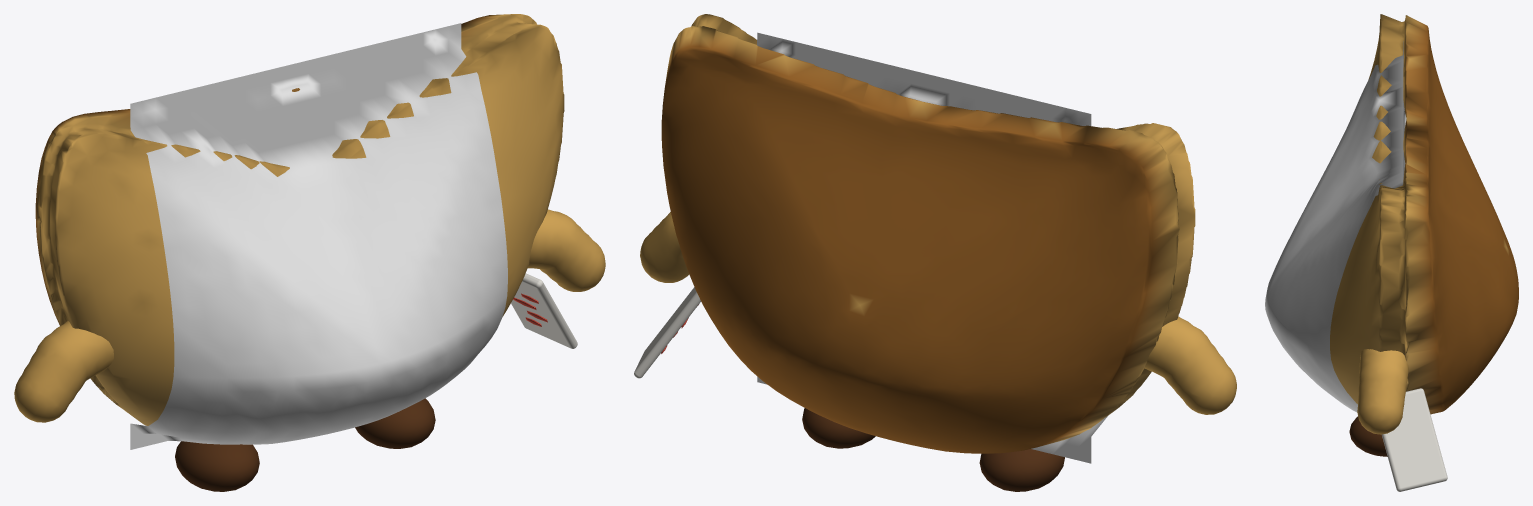
The model's file is folk2_fortune_lod1.glb.
The picture shows the model from 3 angles, left to right: view 1: azimuth 30°, elevation 25°; view 2: azimuth 150°, elevation 25°; view 3: azimuth 270°, elevation 25°; orthographic projection. The views are drawn at different scales.
Visible parts, largest first — view 1: fortune_face, fortune_body, fortune_arm_l, fortune_arm_r, fortune_foot_l, fortune_foot_r; view 2: fortune_body, fortune_face, fortune_arm_l, fortune_foot_l, fortune_arm_r, fortune_foot_r; view 3: fortune_body, fortune_face, fortune_arm_r, fortune_foot_r.
Part boxes in pixels (left/top/right/bottom): fortune_face: left=130, top=23, right=507, bottom=449; fortune_body: left=35, top=14, right=577, bottom=425; fortune_arm_l: left=14, top=321, right=113, bottom=422; fortune_arm_r: left=528, top=209, right=605, bottom=291; fortune_foot_l: left=175, top=441, right=259, bottom=491; fortune_foot_r: left=355, top=398, right=435, bottom=448; fortune_body: left=634, top=14, right=1195, bottom=453; fortune_face: left=757, top=32, right=1108, bottom=463; fortune_arm_l: left=1144, top=316, right=1236, bottom=414; fortune_foot_l: left=979, top=449, right=1064, bottom=491; fortune_arm_r: left=640, top=212, right=689, bottom=282; fortune_foot_r: left=802, top=408, right=875, bottom=448; fortune_body: left=1330, top=14, right=1518, bottom=491; fortune_face: left=1265, top=41, right=1406, bottom=412; fortune_arm_r: left=1357, top=349, right=1408, bottom=434; fortune_foot_r: left=1349, top=416, right=1387, bottom=456.
Bounding box in the file's own units: 1.29 × 0.8288 × 0.5979.
